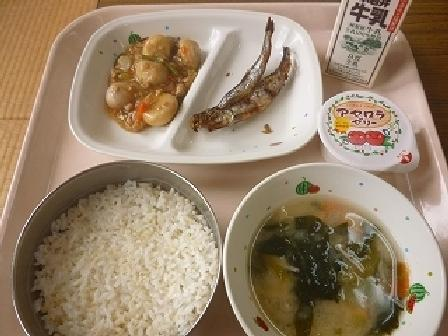Cup desserts: (310, 94, 429, 172)
Fish: (187, 23, 319, 138)
Milk: (314, 0, 421, 85)
Rice: (12, 158, 218, 334)
Soups: (225, 167, 443, 335)
vegetable based cooked food: (100, 23, 192, 128)
